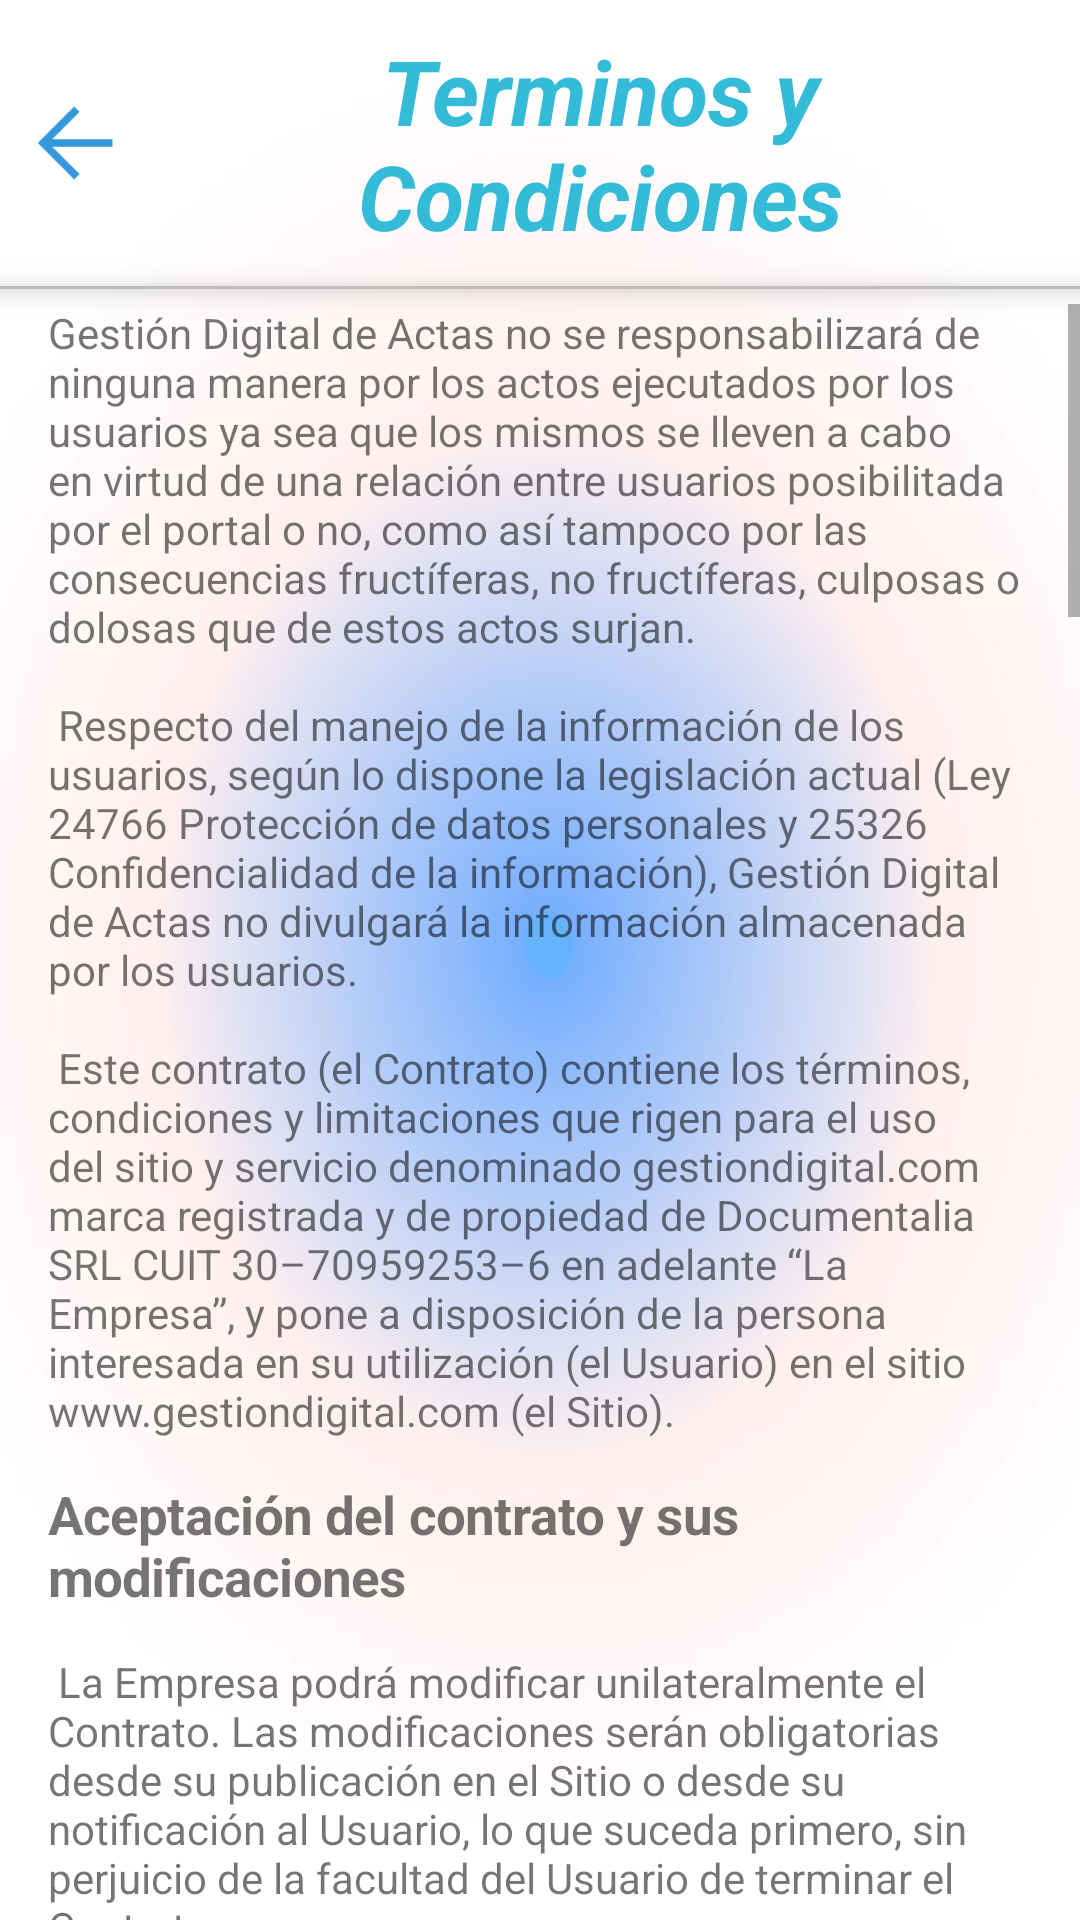

Point at icon controls on the screen. Image size 1080x1920, points as (x,y).
left arrow: (75,143)
